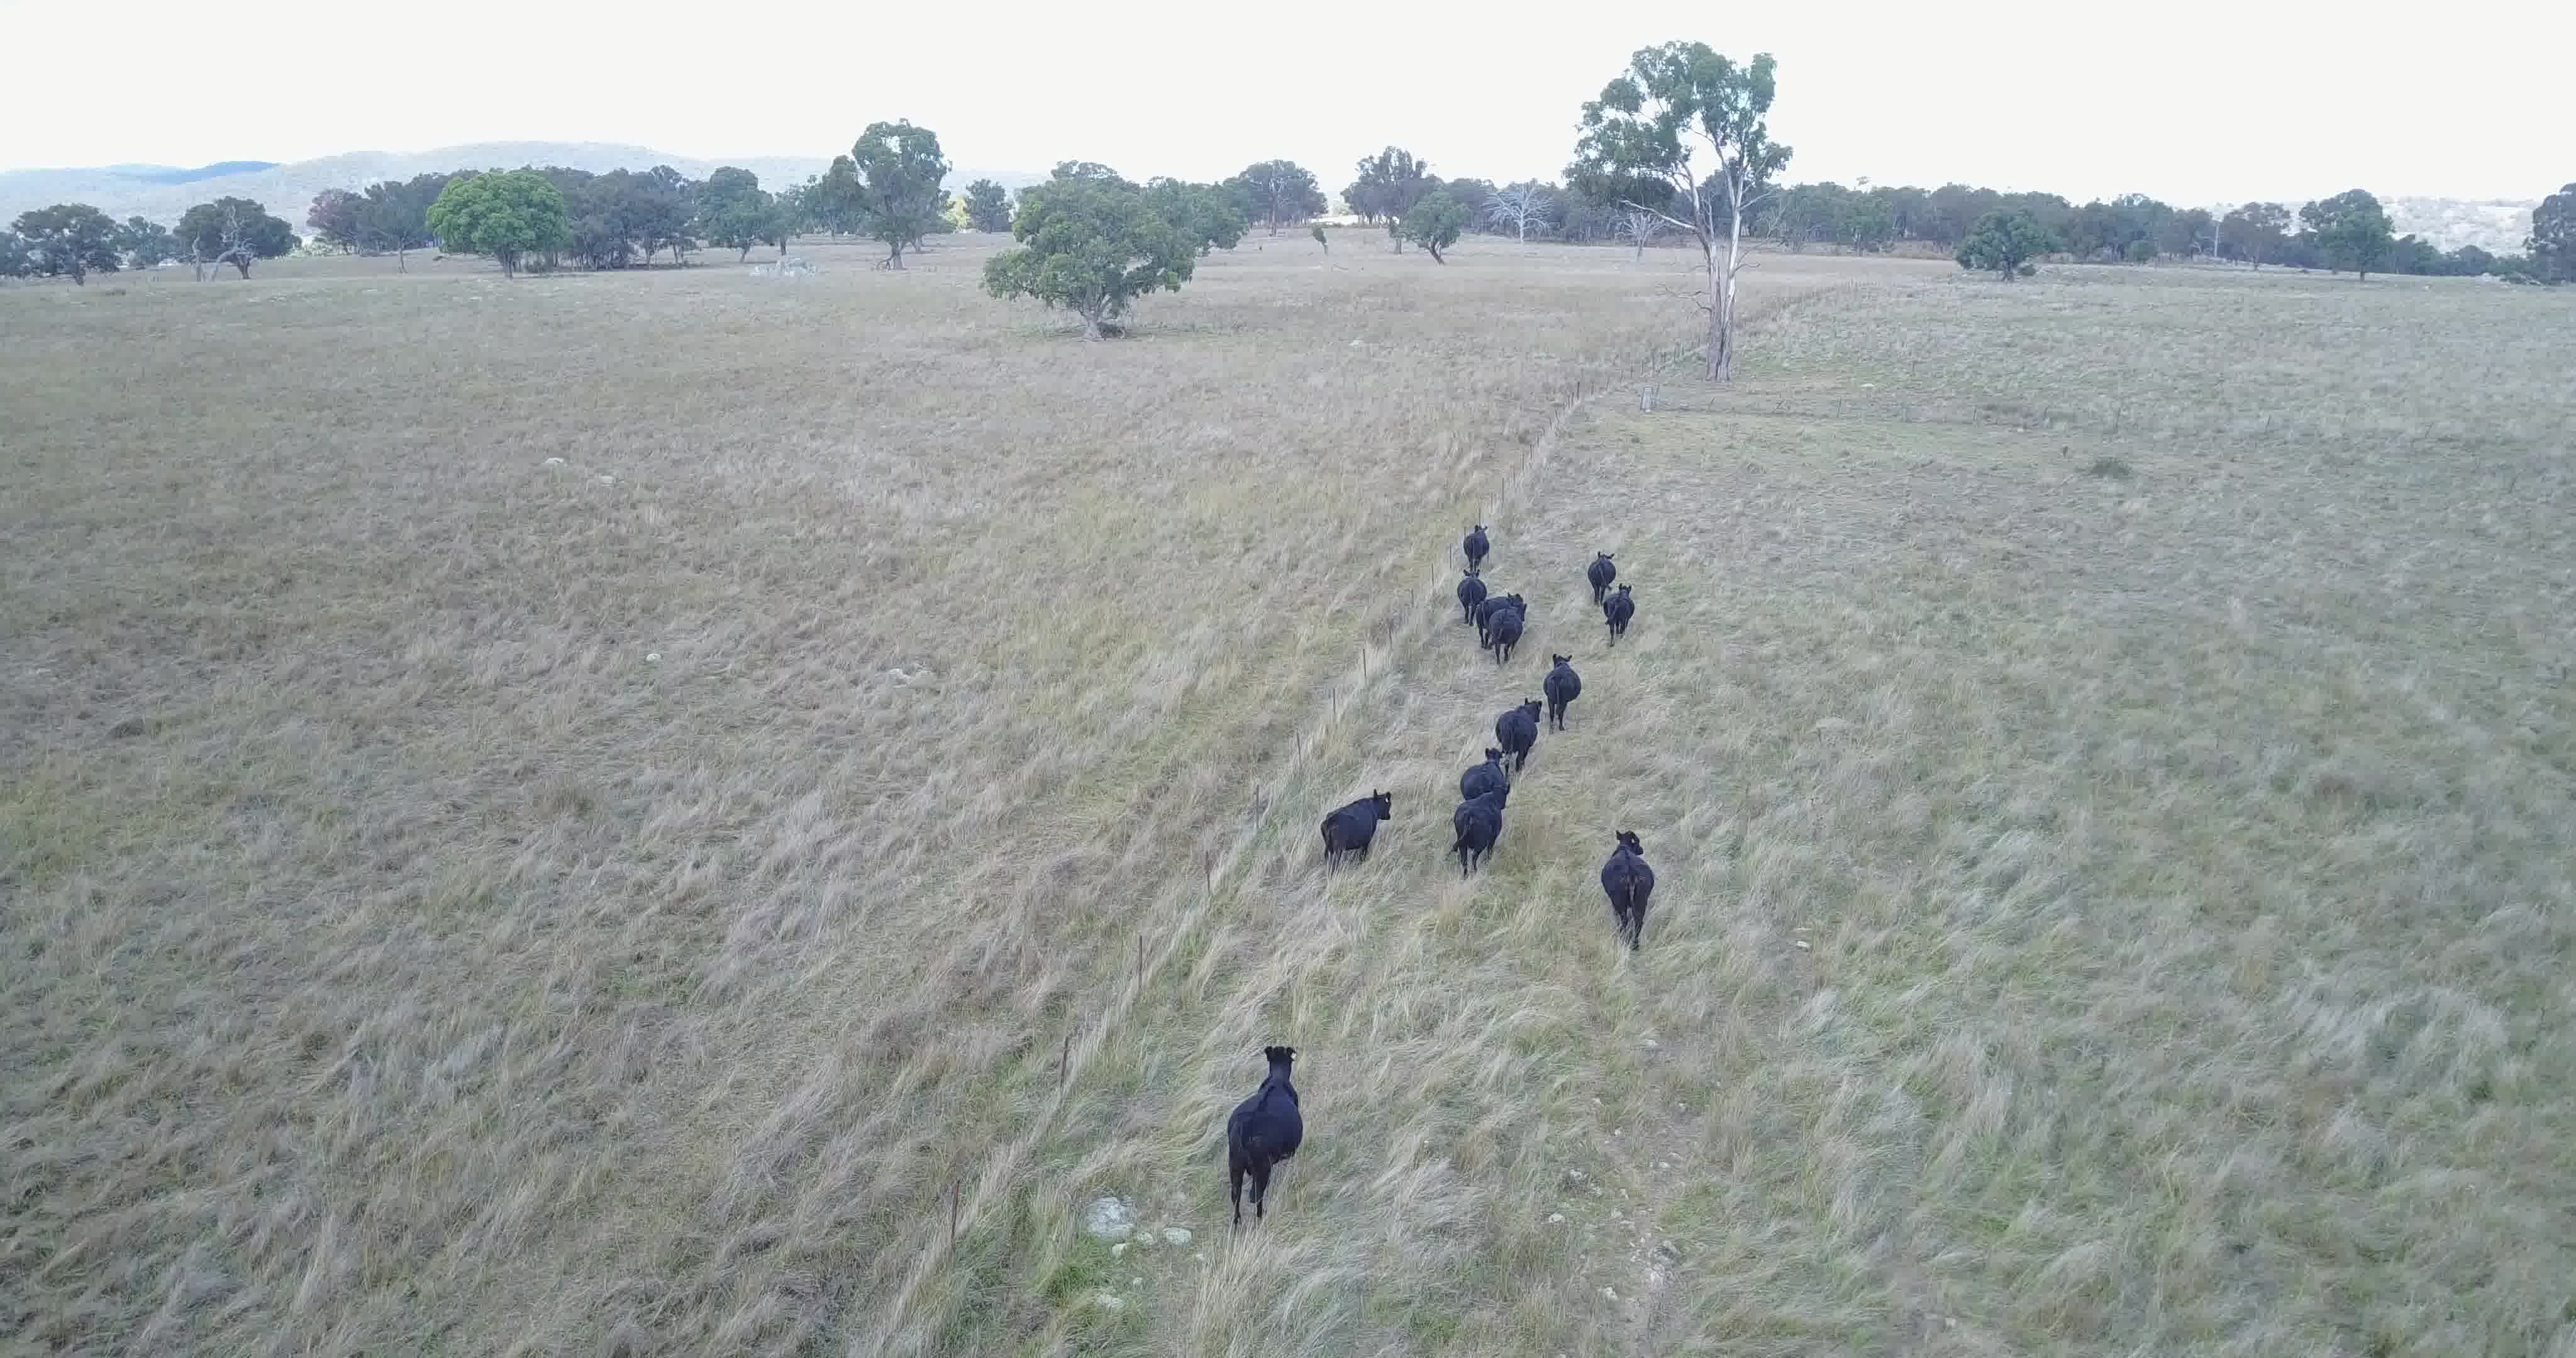cattle: (1220, 1044, 1308, 1225), (1596, 828, 1658, 952), (1314, 787, 1395, 876), (1450, 785, 1511, 878), (1487, 695, 1544, 774), (1537, 653, 1581, 734), (1457, 748, 1515, 804), (1487, 600, 1527, 663), (1601, 583, 1637, 646), (1453, 567, 1487, 625), (1458, 521, 1492, 571), (1586, 552, 1619, 596), (1475, 590, 1530, 610)
